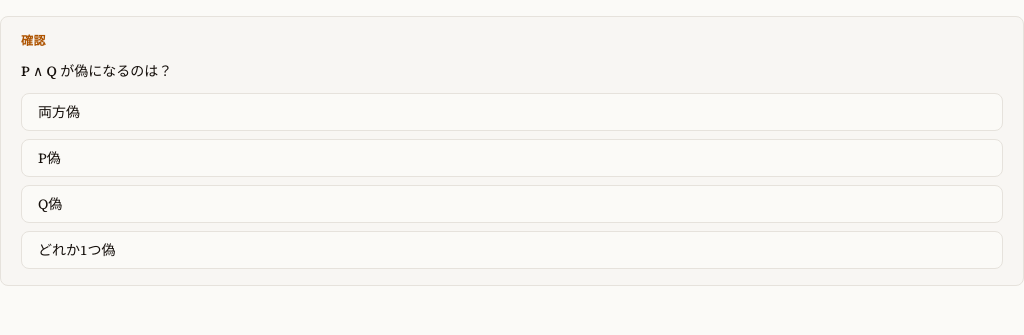
Test: InlineMiniQuiz › shows incorrect feedback then allows retry
Step 1. Click the button "両方偽" → (59, 112), box [21, 93, 1003, 131]
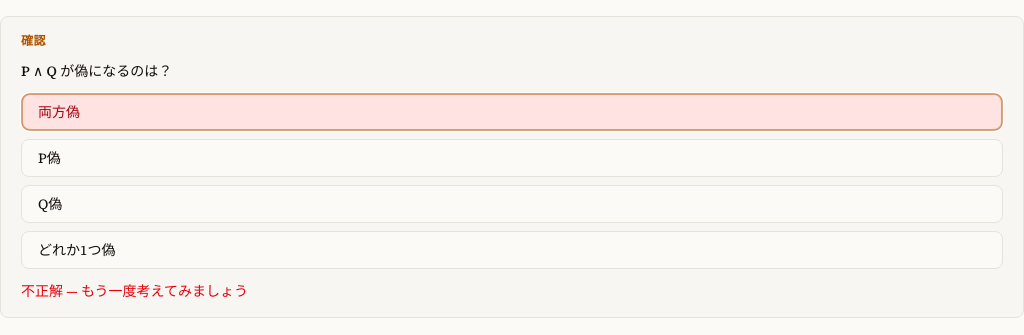
Now the text "不正解 — もう一度考えてみましょう" is shown, box [21, 281, 248, 301]
